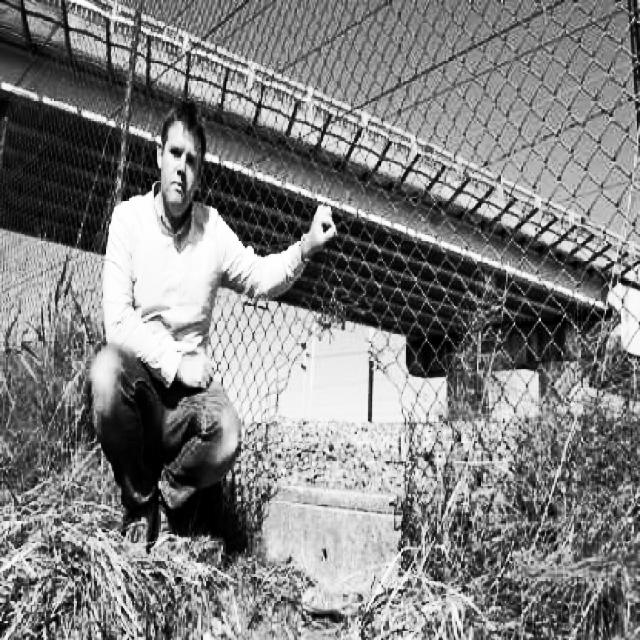anomaly-fence: (237, 292, 472, 619)
